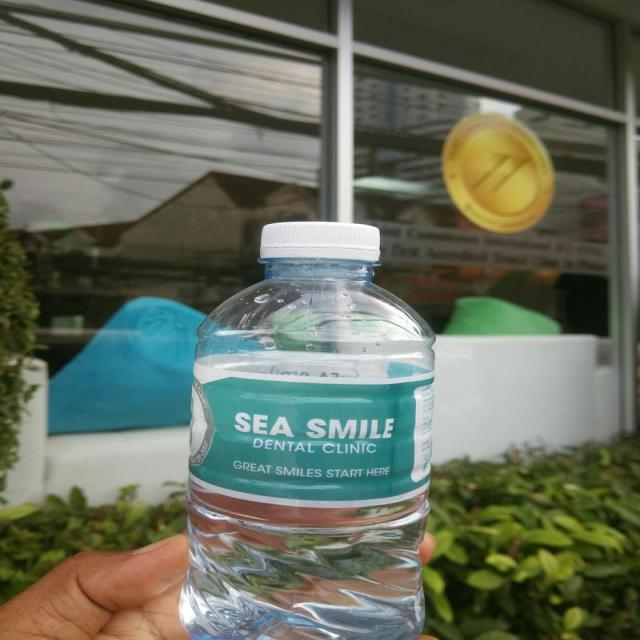bottle: (170, 195, 448, 640)
